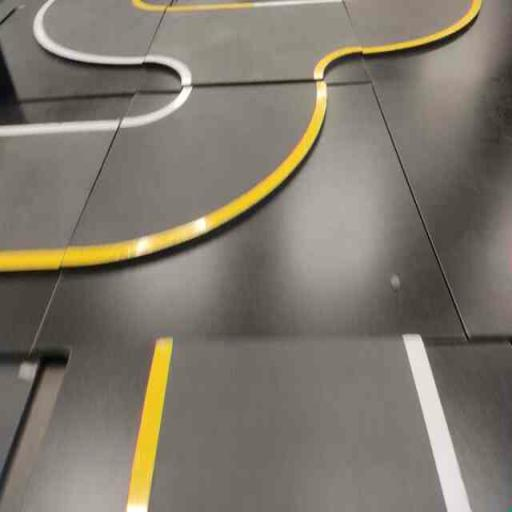straight: (121, 332, 491, 511)
